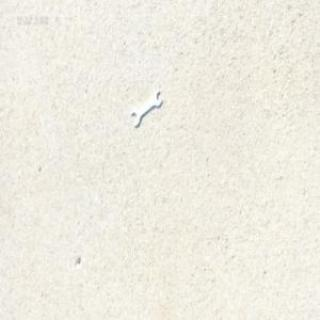Wrenchtrack_idkeyframe: (130, 88, 162, 126)
